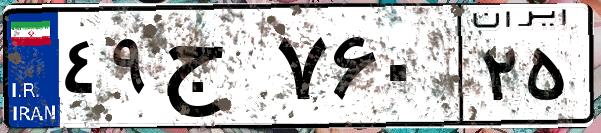0: (385, 28, 445, 110)
2: (475, 38, 525, 113)
4: (57, 26, 110, 100)
5: (525, 38, 570, 115)
6: (330, 28, 385, 110)
7: (270, 28, 330, 110)
9: (110, 28, 158, 98)
ج: (158, 20, 270, 120)
